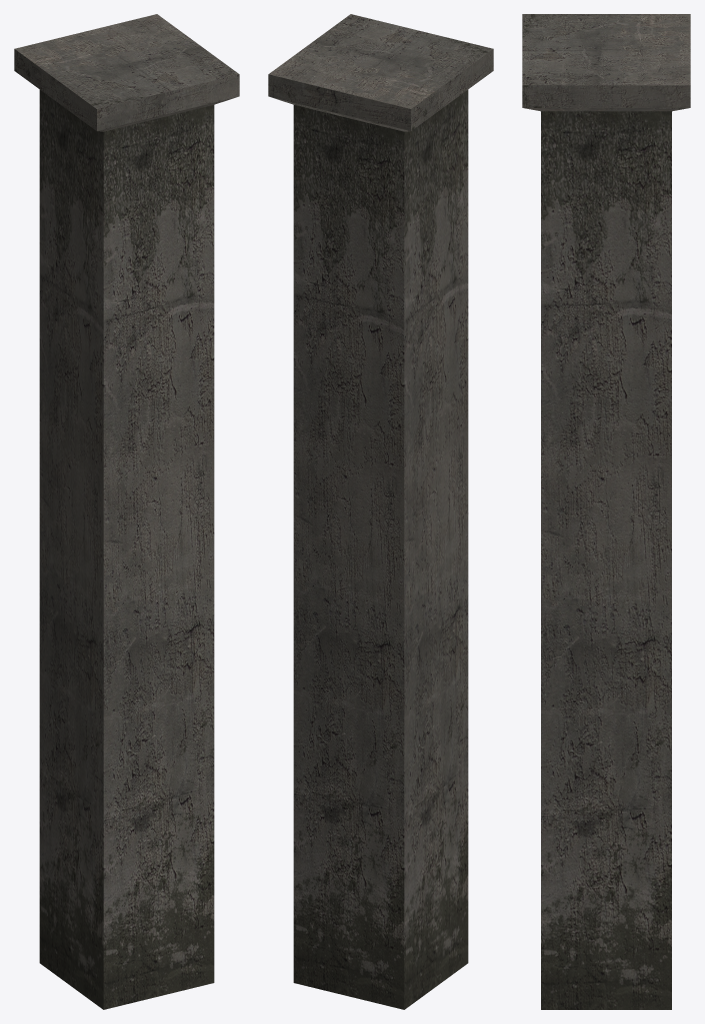
Rendered from backWallColumnHigh.FBX.
The picture shows the model from 3 angles, left to right: view 1: azimuth 30°, elevation 25°; view 2: azimuth 150°, elevation 25°; view 3: azimuth 270°, elevation 25°; orthographic projection. The views are drawn at different scales.
Parts seen in each view (by area): view 1: backWallColumnHigh; view 2: backWallColumnHigh; view 3: backWallColumnHigh.
Boxes of the visible parts, x1,y1,x2,y2 form: backWallColumnHigh: [14, 14, 239, 1009]; backWallColumnHigh: [268, 14, 493, 1009]; backWallColumnHigh: [522, 14, 690, 1009].
Size of the model in its own units: 193 by 1179 by 193.
1 material, 1 textured.
